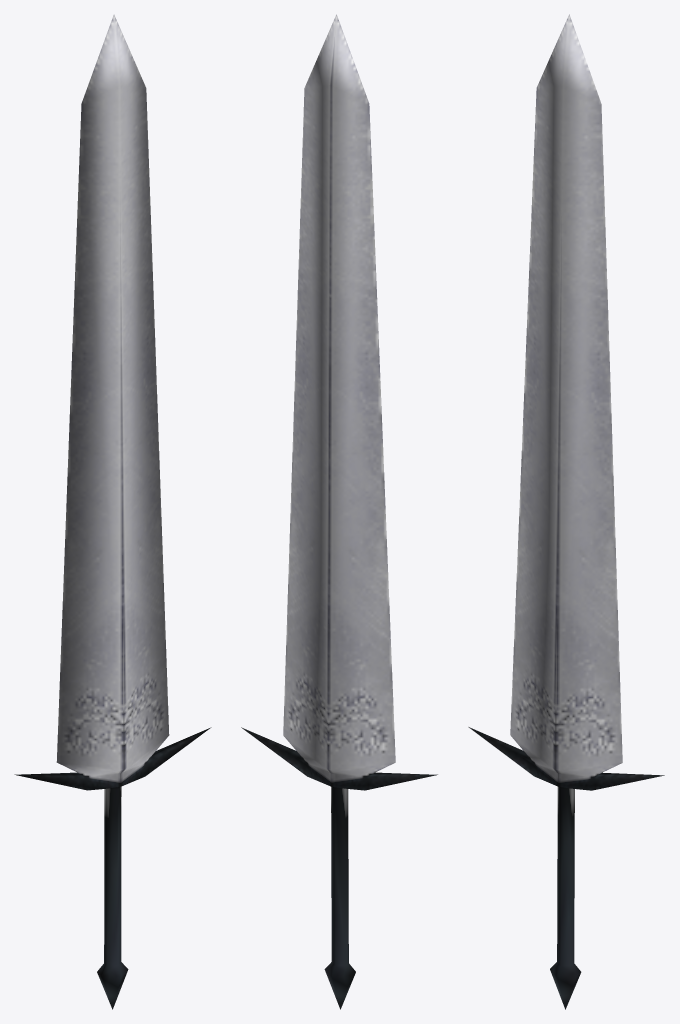
The model's file is GreatSword.fbx.
The picture shows the model from 3 angles, left to right: view 1: azimuth 30°, elevation 25°; view 2: azimuth 150°, elevation 25°; view 3: azimuth 330°, elevation 25°; orthographic projection.
Parts seen in each view (by area): view 1: Maria_sword; view 2: Maria_sword; view 3: Maria_sword.
Boxes of the visible parts, x1=… form: Maria_sword: x1=14, y1=14, x2=211, y2=1009; Maria_sword: x1=241, y1=14, x2=437, y2=1009; Maria_sword: x1=468, y1=14, x2=664, y2=1009.
Bounding box in the file's own units: 30.95 × 149 × 6.13.
